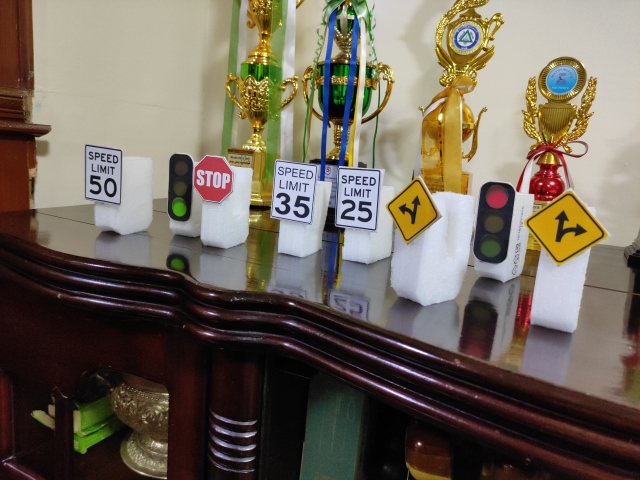Green Traffic Light: (167, 152, 193, 221)
Red Traffic Light: (473, 182, 516, 264)
Speed Limit 25: (336, 167, 382, 231)
Speed Limit 35: (272, 160, 317, 222)
Speed Limit 50: (85, 143, 124, 205)
Stop Sign: (194, 156, 234, 202)
Straight Or Left Sign: (387, 178, 440, 242)
Straight Or Right Sign: (527, 192, 605, 263)
